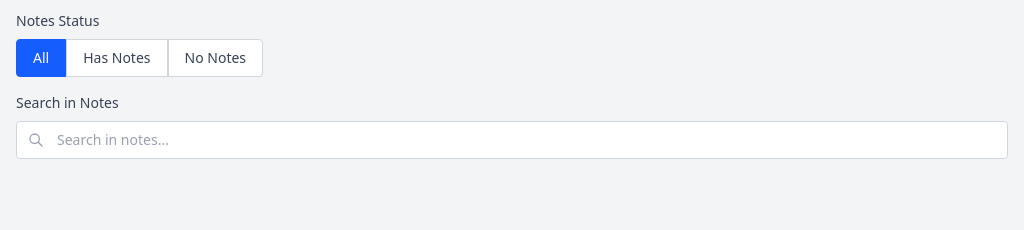
Test: NotesFilter › Clear Filter Button › shows clear button when toggle is set
Click the button with aria-label "show only photos with notes" at (117, 58), box x1=66 y1=39 x2=168 y2=77
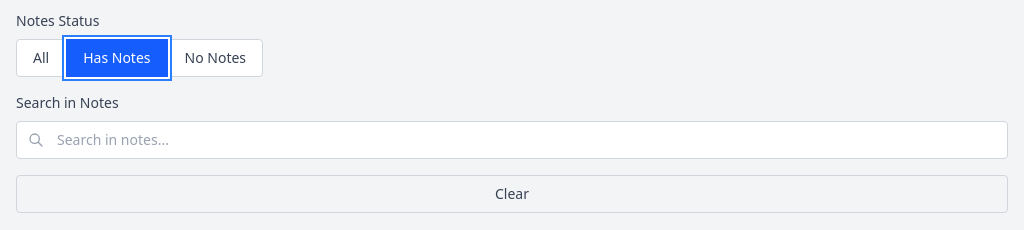
Expected: the button with aria-label "clear notes filter" is shown, x1=16 y1=175 x2=1008 y2=213
